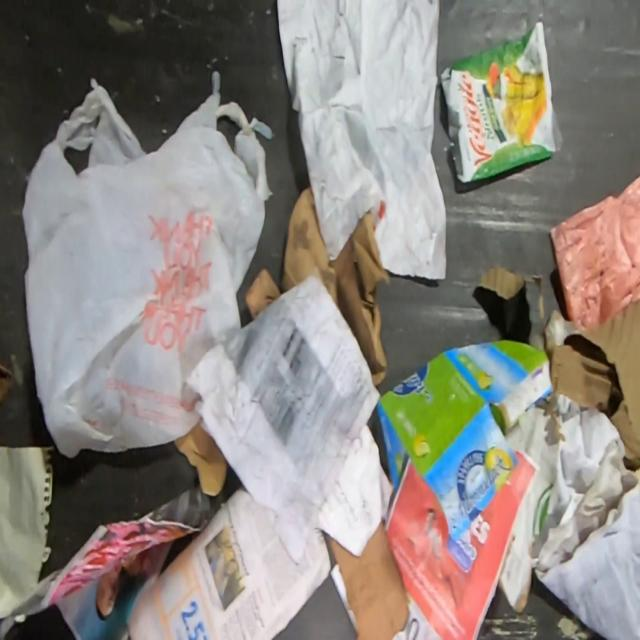cardboard: (376, 340, 552, 543), (475, 265, 640, 463), (245, 184, 387, 384), (329, 518, 409, 639)
soft_plastic: (21, 70, 272, 460), (440, 19, 562, 183), (550, 176, 640, 330)
